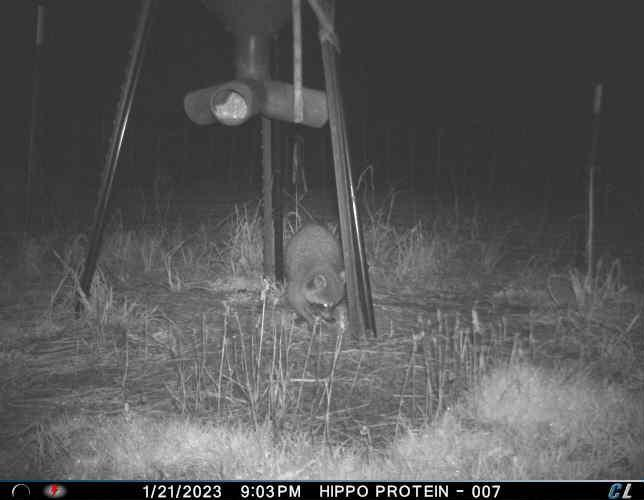Raccoon: (284, 220, 349, 331)
